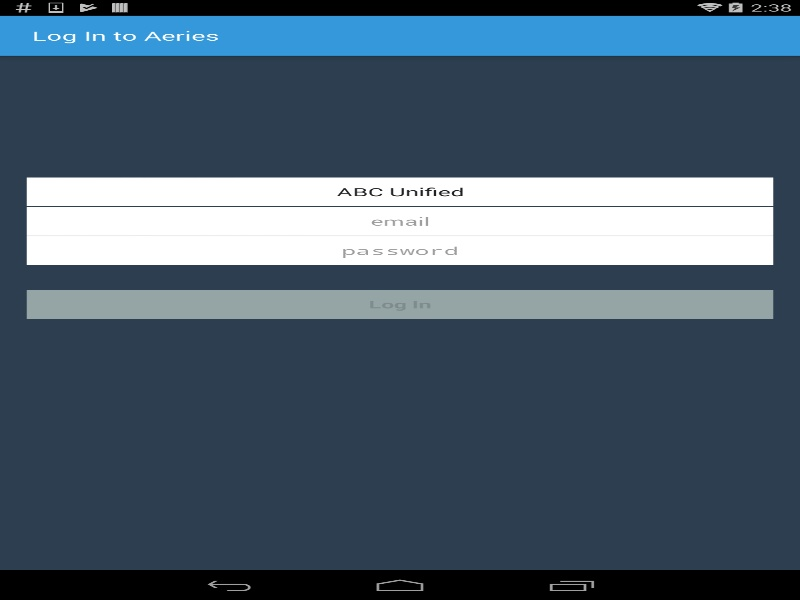Button: (26, 290, 773, 318)
Input: (26, 177, 773, 206), (26, 206, 773, 235), (26, 236, 773, 265)
